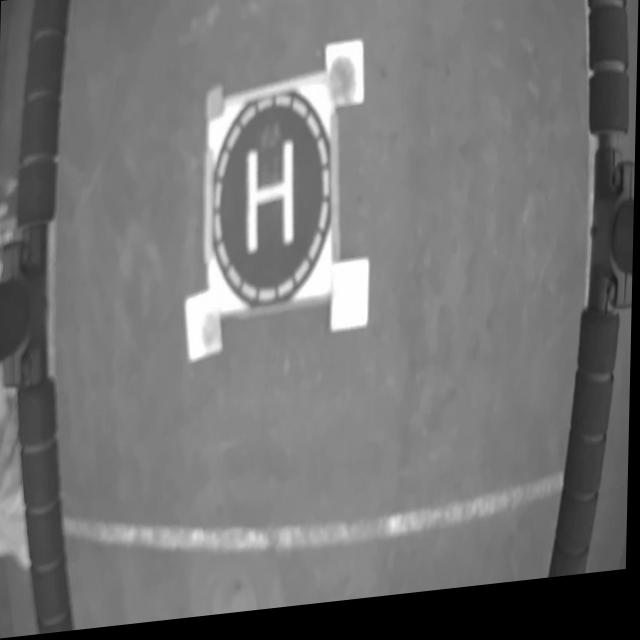Helipad: (246, 145, 295, 262)
